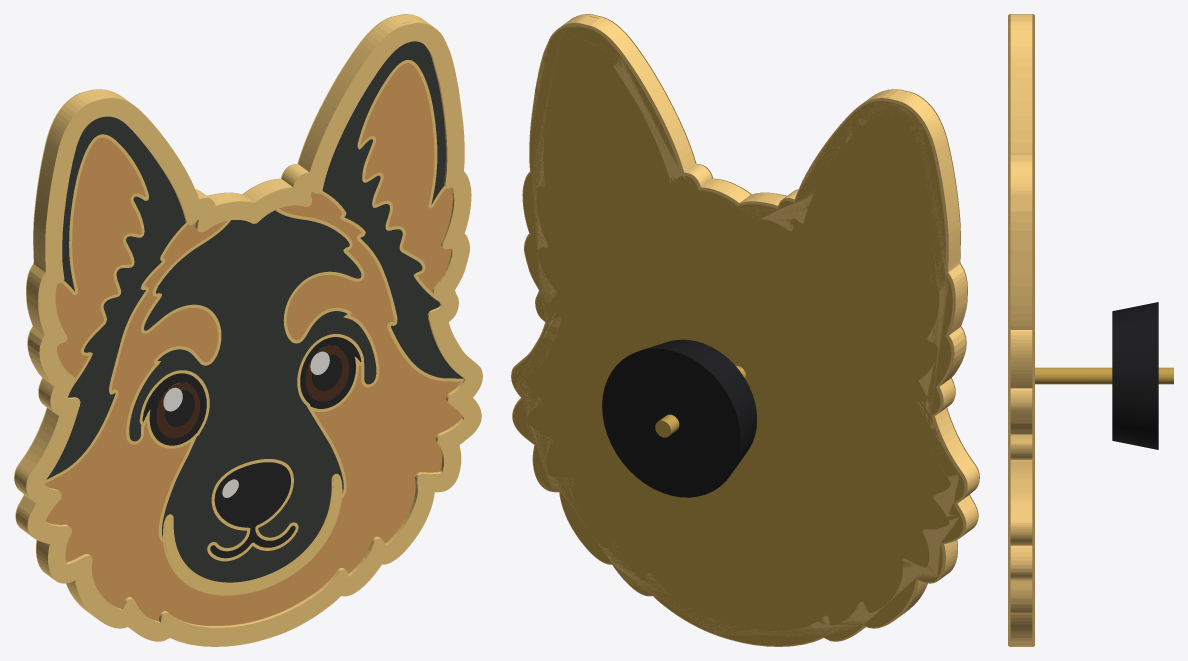
File: german-shepherd.glb
3 views of the same model, side by side, from view 1: azimuth 30°, elevation 25°; view 2: azimuth 150°, elevation 25°; view 3: azimuth 270°, elevation 25° (orthographic). The views are drawn at different scales.
Parts seen in each view (by area): view 1: enamel_02_st1, gold_border, enamel_07_st7, enamel_18_st7, enamel_17_st7, enamel_20_st1, enamel_19_st1, gold_line_07, enamel_11_st6, gold_inlay_08_st3, gold_line_20, gold_line_19 (+9 smaller); view 2: base_plate, gold_border, rubber_clutch; view 3: gold_border, rubber_clutch, pin_post.
Part boxes in pixels (x1=…): enamel_02_st1: x1=44, y1=192, x2=461, y2=625; gold_border: x1=14, y1=14, x2=482, y2=646; enamel_07_st7: x1=129, y1=210, x2=376, y2=582; enamel_18_st7: x1=322, y1=41, x2=463, y2=378; enamel_17_st7: x1=46, y1=116, x2=185, y2=479; enamel_20_st1: x1=360, y1=63, x2=452, y2=292; enamel_19_st1: x1=55, y1=137, x2=145, y2=377; gold_line_07: x1=126, y1=208, x2=379, y2=583; enamel_11_st6: x1=210, y1=462, x2=295, y2=558; gold_inlay_08_st3: x1=164, y1=475, x2=340, y2=593; gold_line_20: x1=357, y1=60, x2=445, y2=301; gold_line_19: x1=62, y1=134, x2=148, y2=382; base_plate: x1=512, y1=26, x2=964, y2=645; gold_border: x1=511, y1=14, x2=979, y2=646; rubber_clutch: x1=602, y1=339, x2=756, y2=497; gold_border: x1=1008, y1=14, x2=1034, y2=646; rubber_clutch: x1=1112, y1=302, x2=1158, y2=449; pin_post: x1=1035, y1=367, x2=1173, y2=384.
Bounding box in the file's own units: 0.0316 × 0.0384 × 0.0107.
